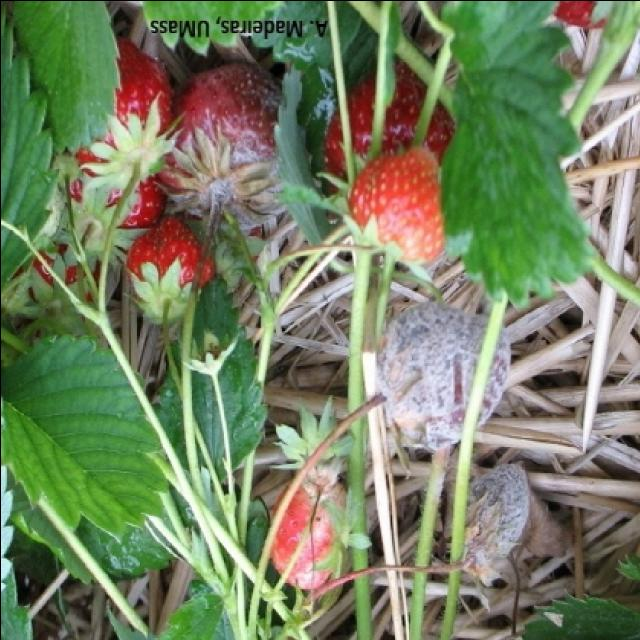Gray Mold: (153, 59, 307, 229), (370, 300, 512, 449), (449, 462, 530, 579)
